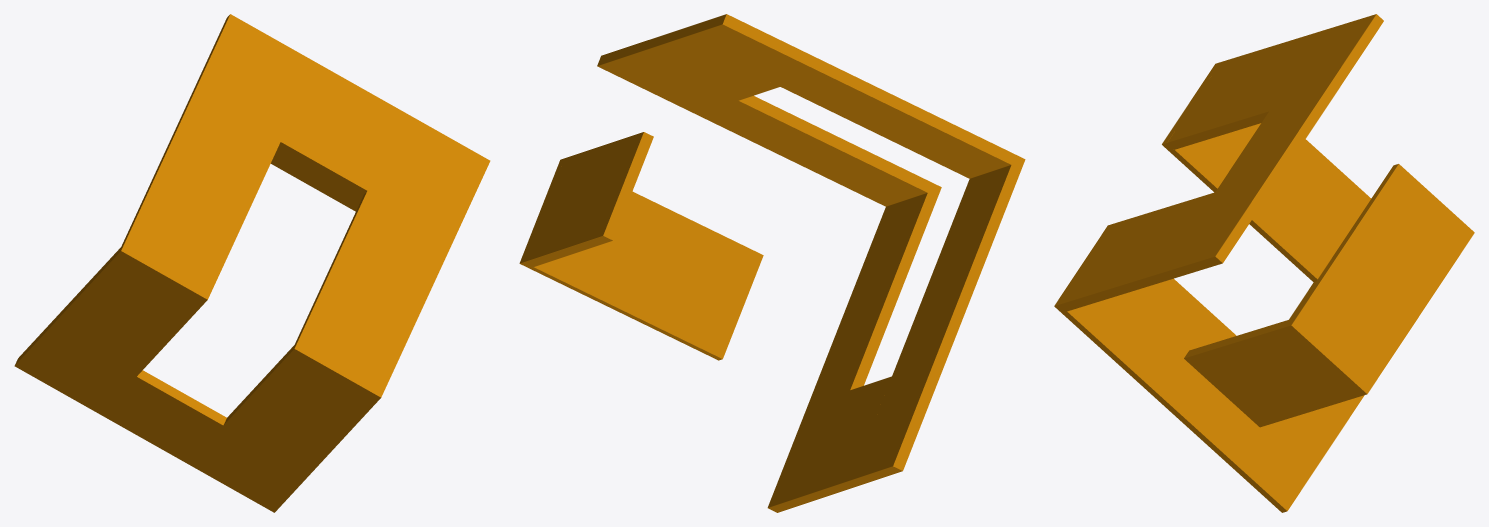
File: Shiny Amberis-Amur.glb
3 views of the same model, side by side, from view 1: azimuth 30°, elevation 25°; view 2: azimuth 150°, elevation 25°; view 3: azimuth 270°, elevation 25° (orthographic). The views are drawn at different scales.
Parts seen in each view (by area): view 1: Mesh_Mesh_head_geo.001_lambert2SG.001; view 2: Mesh_Mesh_head_geo.001_lambert2SG.001; view 3: Mesh_Mesh_head_geo.001_lambert2SG.001.
Part boxes in pixels (box(x1,y1,x2,y2)): Mesh_Mesh_head_geo.001_lambert2SG.001: box(14, 14, 490, 512); Mesh_Mesh_head_geo.001_lambert2SG.001: box(519, 14, 1025, 512); Mesh_Mesh_head_geo.001_lambert2SG.001: box(1054, 14, 1474, 512).
Bounding box in the file's own units: 14.14 × 17.07 × 13.05.
